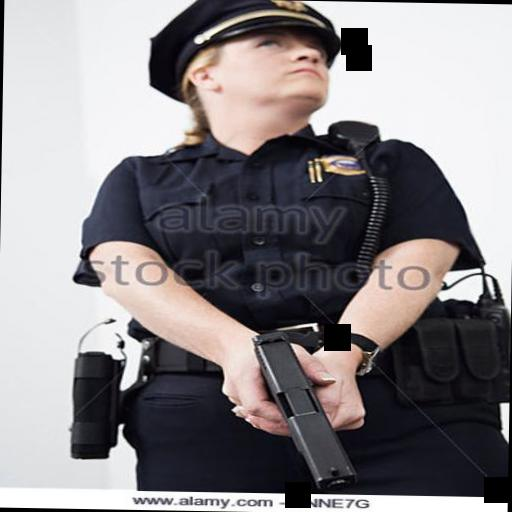Handgun: (237, 331, 370, 493)
